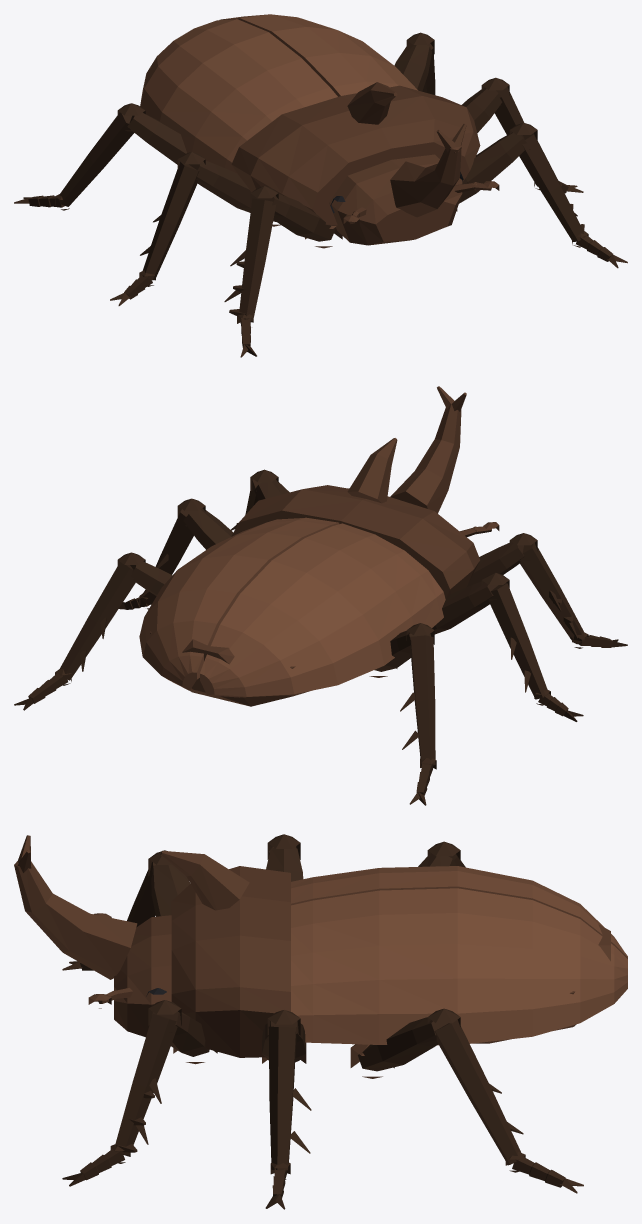
File: ram.glb
3 renders of one model, top to bottom at view 1: azimuth 30°, elevation 25°; view 2: azimuth 150°, elevation 25°; view 3: azimuth 270°, elevation 25°, orthographic. The views are drawn at different scales.
Visible parts, largest first — view 1: ThoraxCore, BeetlePlate_01, HeadBase001, BeetlePlate_00, cheek_horn, Tibia001, Tibia003, Tibia000, Tibia005, Femur000, Femur001, Femur003 (+4 smaller); view 2: BeetlePlate_01, BeetlePlate_00, ThoraxCore, cheek_horn, Tibia005, Tibia004, Tibia003, Tibia001, Femur003, Tibia002, BeetleBodyInner, Femur001 (+3 smaller); view 3: BeetlePlate_00, ThoraxCore, BeetlePlate_01, cheek_horn, HeadBase001, Tibia004, Tibia002, Tibia000, Femur004, Femur001, Femur000, Tibia001 (+4 smaller).
Part boxes in pixels (x1,y1,x2,y2): ThoraxCore: (231,82,480,225); BeetlePlate_01: (140,19,337,172); HeadBase001: (329,154,462,245); BeetlePlate_00: (219,14,417,96); cheek_horn: (390,124,466,217); Tibia001: (224,198,276,320); Tibia003: (140,161,199,280); Tibia000: (519,133,585,241); Tibia005: (58,112,134,206); Femur000: (459,132,526,203); Femur001: (255,194,335,241); Femur003: (189,161,251,212); BeetlePlate_01: (200,523,445,697); BeetlePlate_00: (139,517,339,690); ThoraxCore: (231,438,479,598); cheek_horn: (390,386,466,513); Tibia005: (400,635,435,766); Tibia004: (59,562,136,680); Tibia003: (488,583,548,699); Tibia001: (519,542,585,644); Femur003: (432,581,498,634); Tibia002: (140,509,193,604); BeetleBodyInner: (150,631,309,706); Femur001: (467,542,524,586); BeetlePlate_00: (291,888,627,1045); ThoraxCore: (160,850,290,1057); BeetlePlate_01: (291,866,627,958); cheek_horn: (14,835,137,979); HeadBase001: (114,915,171,1037); Tibia004: (434,1019,523,1165); Tibia002: (268,1026,311,1170); Tibia000: (113,1013,179,1155); Femur004: (358,1017,447,1071); Femur001: (151,865,190,916); Femur000: (152,1011,209,1056); Tibia001: (127,862,155,927).
Size of the model in its own units: 3.75 by 1.51 by 3.61.
